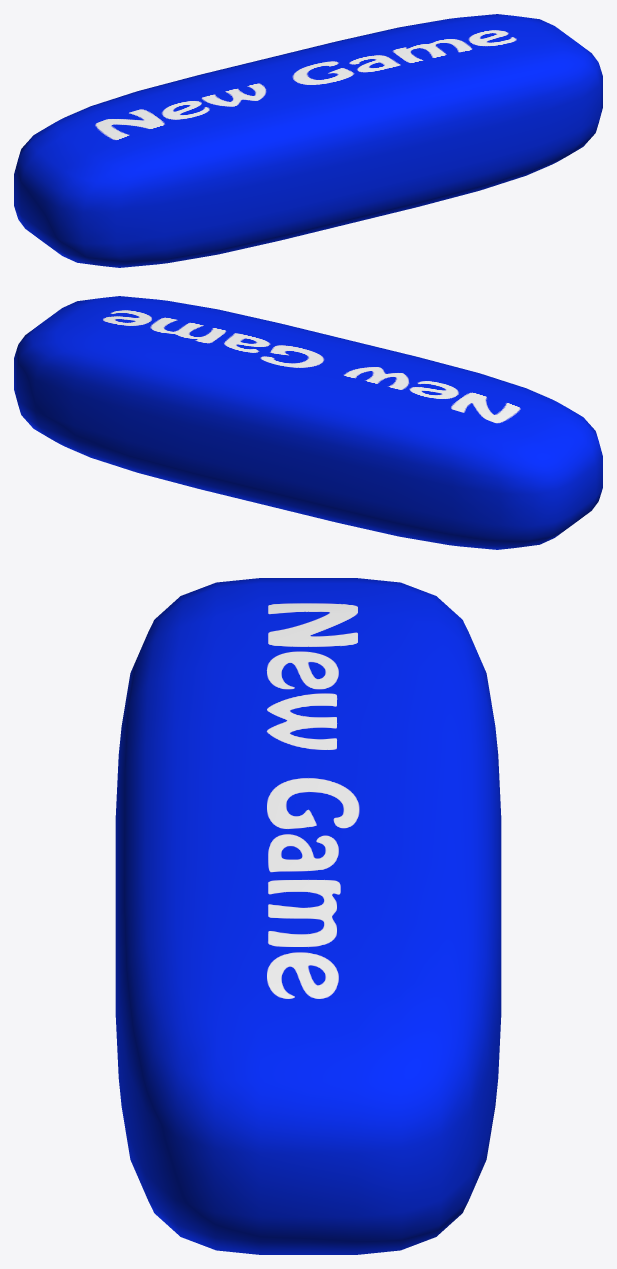
The model's file is BlobMenuButtons.FBX.
3 views of the same model, one above another, from view 1: azimuth 30°, elevation 25°; view 2: azimuth 150°, elevation 25°; view 3: azimuth 270°, elevation 25° (orthographic). The views are drawn at different scales.
Visible parts, largest first — view 1: Box001; view 2: Box001; view 3: Box001.
Boxes of the visible parts, x1=… form: Box001: x1=14, y1=14, x2=602, y2=267; Box001: x1=14, y1=296, x2=602, y2=549; Box001: x1=115, y1=578, x2=501, y2=1254.
Bounding box in the file's own units: 182 × 39.65 × 55.11.
1 material, 1 textured.
